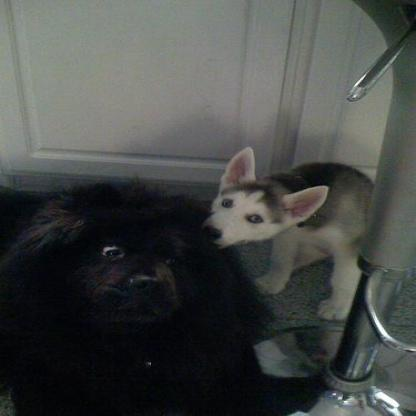Siberian_husky: (201, 143, 376, 322)
